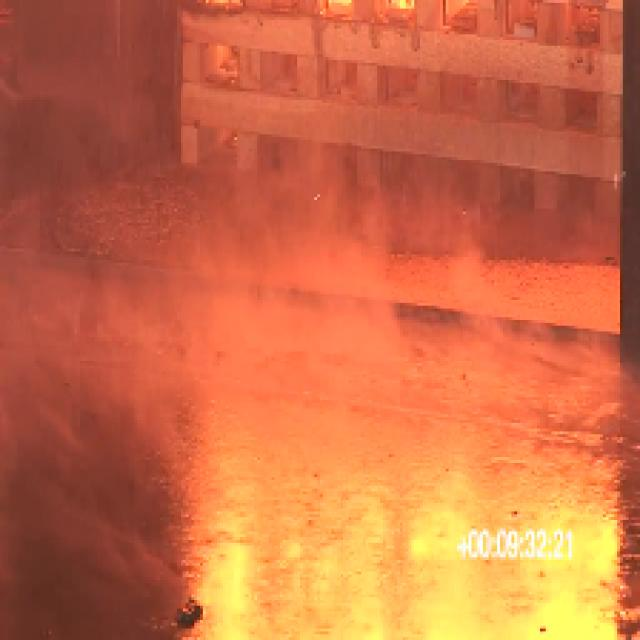fire: (221, 488, 588, 610)
smoke: (58, 146, 521, 335)
